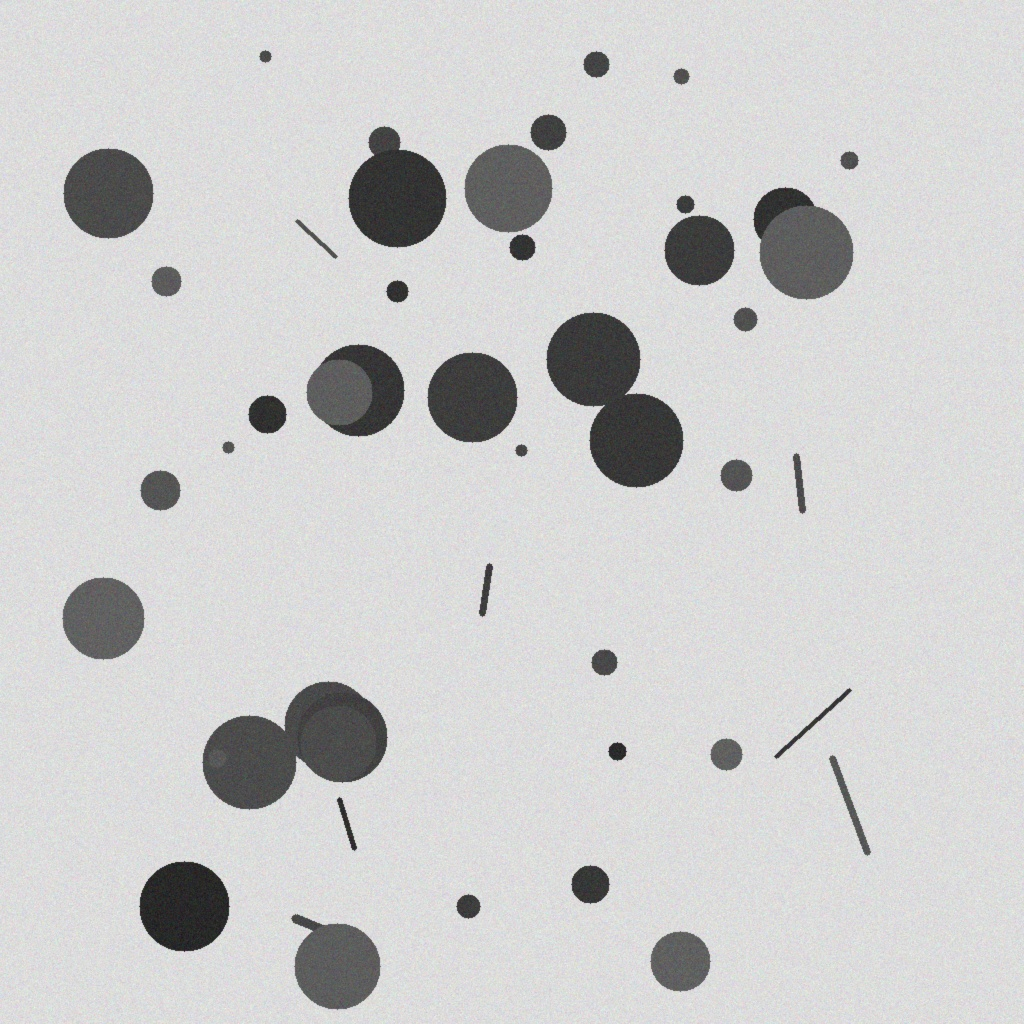fibra: (349, 156, 446, 247), (542, 316, 642, 404), (63, 151, 154, 239), (428, 358, 516, 440)
fragmento: (719, 460, 753, 492), (592, 649, 619, 672)
